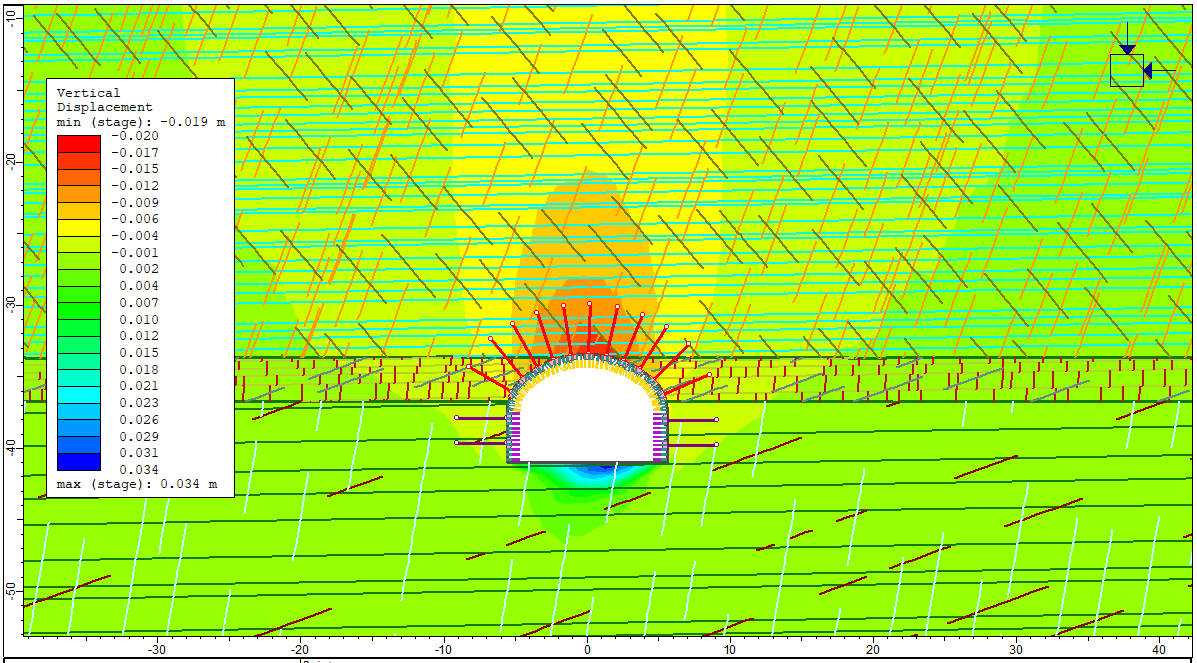crown: (571, 327, 599, 353)
label: (48, 78, 235, 493)
tunnel-opening: (505, 358, 669, 460)
